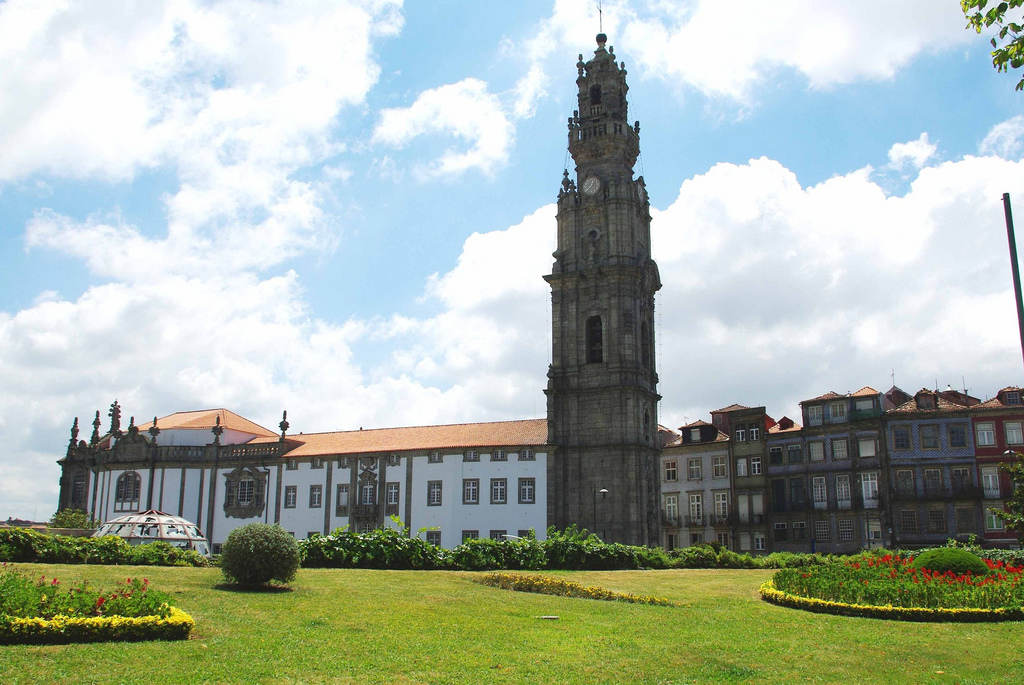clerigos: (541, 0, 662, 553)
